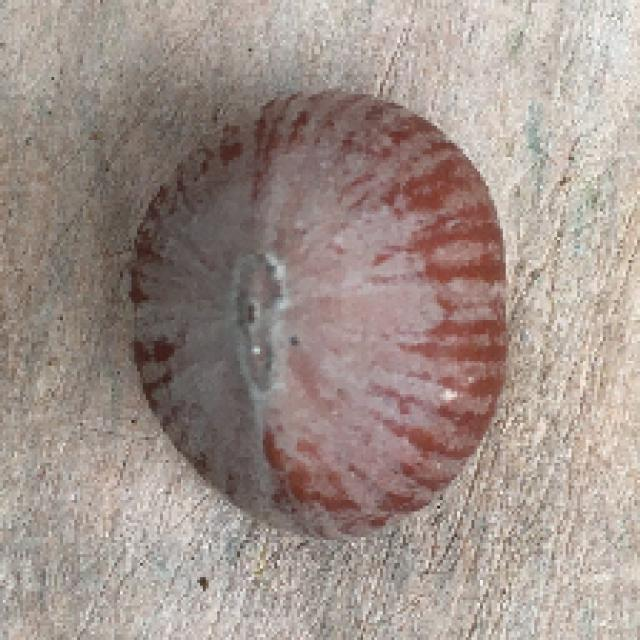qualityHazelnut: (129, 83, 513, 548)
